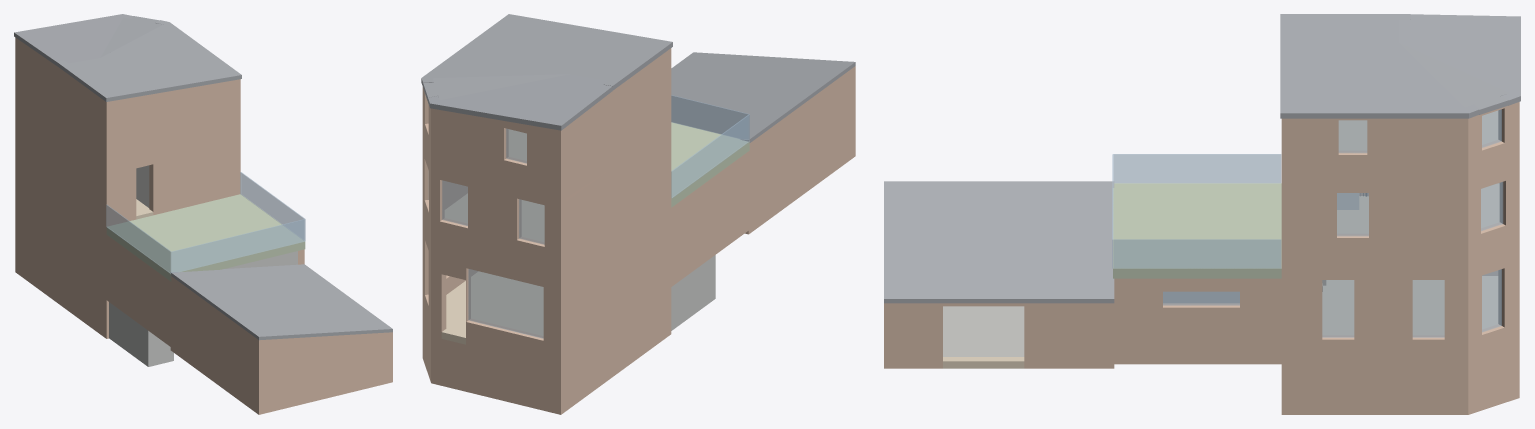
File: maison.gltf
3 renders of one model, left to right at view 1: azimuth 30°, elevation 25°; view 2: azimuth 150°, elevation 25°; view 3: azimuth 270°, elevation 25°, orthographic. The views are drawn at different scales.
Visible parts, largest first — view 1: 1-toiture-garage, 1-terrasse-projet, 0I, 2C, T-pan-cote-b, 1C, 0H, 0D, 1D, 1-terrasse-projet-garde-corps, 2D, 0E (+7 smaller); view 2: 1-toiture-garage, T-pan-cote-b, 0H, 0D, 2A, 1D, 2D, 1A, 0A, 0E, SA, T-pan-cote-a (+17 smaller); view 3: 1-toiture-garage, 1-terrasse-projet, T-pan-cote-b, 1B, 0B, 0F, 2B, 1-terrasse-projet-garde-corps, 0J, SB, T-pan-cote-a, 0-garage (+18 smaller).
Part boxes in pixels (x1,y1,x2,y2): 1-toiture-garage: (171,264,392,340); 1-terrasse-projet: (106,194,305,281); 0I: (259,332,392,414); 2C: (106,79,240,165); T-pan-cote-b: (56,20,241,101); 1C: (106,133,240,226); 0H: (170,276,258,414); 0D: (15,162,106,299); 1D: (15,99,106,228); 1-terrasse-projet-garde-corps: (106,172,305,273); 2D: (15,37,106,165); 0E: (106,235,170,346); 1-toiture-garage: (671,52,855,142); T-pan-cote-b: (421,14,672,90); 0H: (745,66,855,234); 0D: (561,202,671,367); 2A: (431,108,560,205); 1D: (561,125,671,281); 2D: (561,48,671,204); 1A: (431,173,560,281); 0A: (431,250,560,367); 0E: (671,151,748,286); SA: (431,336,560,414); T-pan-cote-a: (428,74,612,130); 1-toiture-garage: (884,181,1114,303); 1-terrasse-projet: (1113,183,1281,278); T-pan-cote-b: (1280,14,1479,118); 1B: (1281,188,1468,271); 0B: (1281,271,1468,364); 0F: (1114,278,1281,364); 2B: (1281,118,1468,188); 1-terrasse-projet-garde-corps: (1112,154,1281,268); 0J: (884,303,1114,368); SB: (1281,364,1468,414); T-pan-cote-a: (1399,14,1520,105); 0-garage: (943,306,1024,356).
Bounding box in the file's own units: 6.39 × 10.97 × 19.9.
